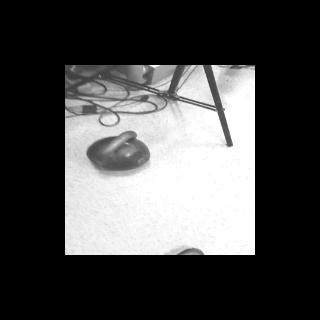kettlebell: (84, 130, 149, 172)
